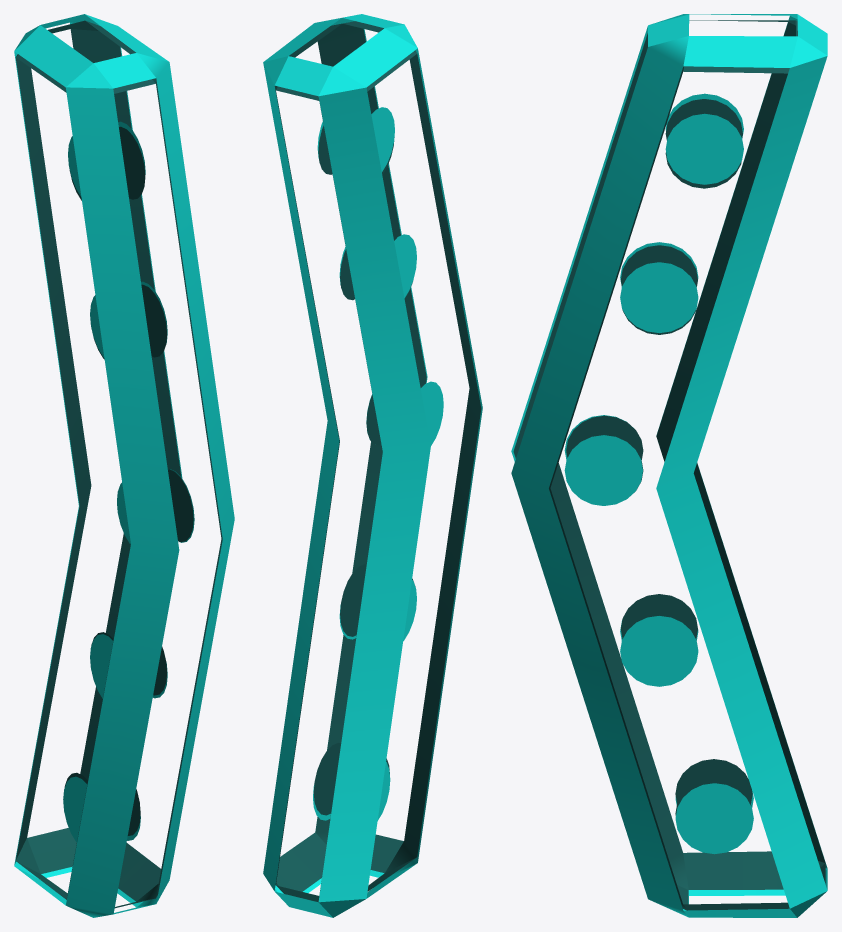
File: 3D_prop_object_holoNeon_directionArrow_002.fbx
The picture shows the model from 3 angles, left to right: view 1: azimuth 30°, elevation 25°; view 2: azimuth 150°, elevation 25°; view 3: azimuth 270°, elevation 25°; orthographic projection. The views are drawn at different scales.
Visible parts, largest first — view 1: directionArrow_front, directionArrow_back; view 2: directionArrow_front, directionArrow_back; view 3: directionArrow_front, directionArrow_back.
Boxes of the visible parts, x1,y1,x2,y2 form: directionArrow_front: (14,14,234,917); directionArrow_back: (15,20,222,908); directionArrow_front: (263,14,482,917); directionArrow_back: (274,21,481,902); directionArrow_front: (511,14,827,917); directionArrow_back: (513,20,825,910).
Size of the model in its own units: 0.0169 by 0.133 by 0.0433.
